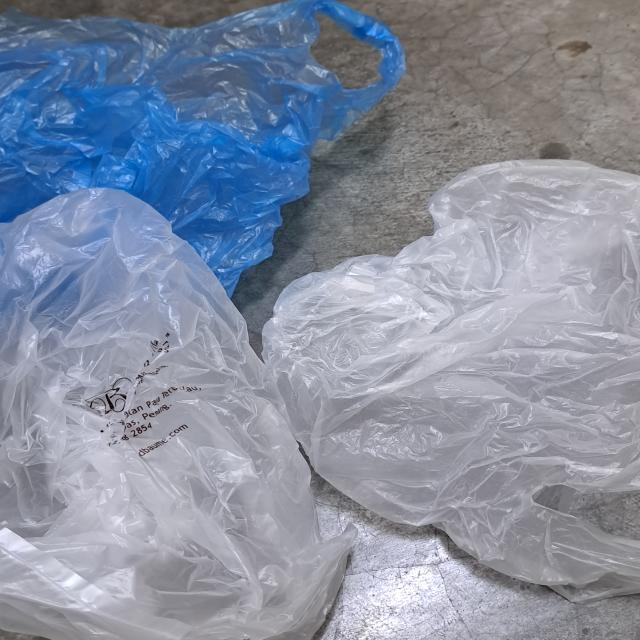plastic bag: (262, 158, 640, 602), (0, 188, 353, 640), (0, 0, 410, 306)
